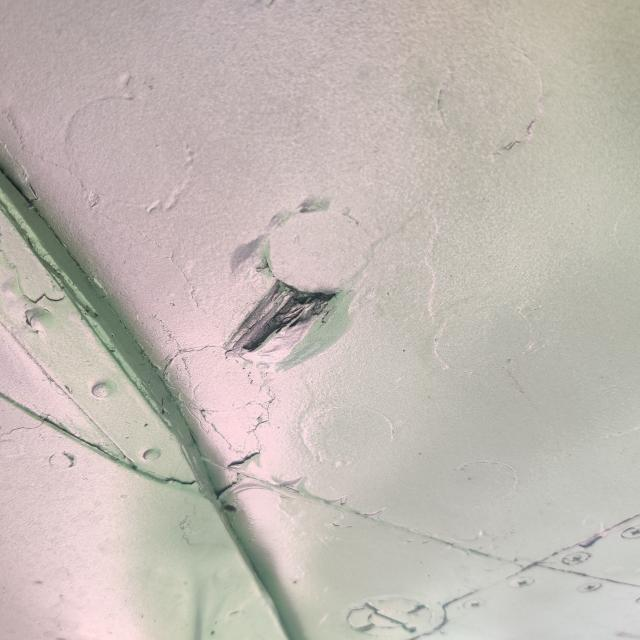paint-off: (218, 265, 346, 366)
